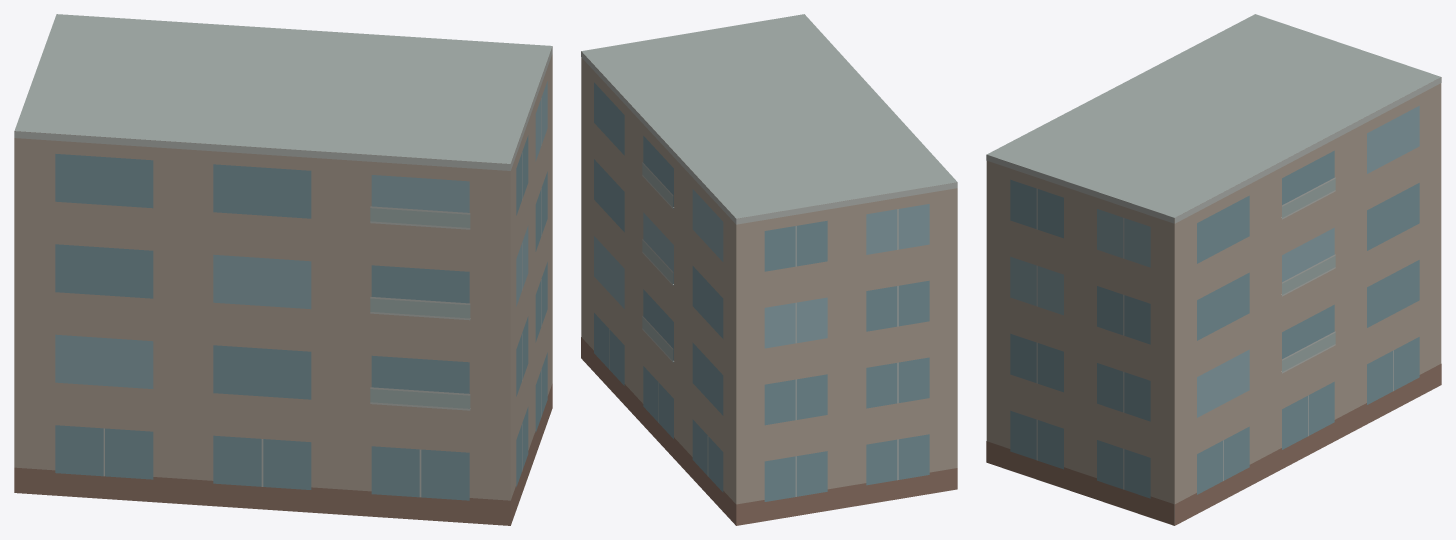
File: survey-upis-32760650.glb
3 renders of one model, left to right at view 1: azimuth 30°, elevation 25°; view 2: azimuth 150°, elevation 25°; view 3: azimuth 270°, elevation 25°, orthographic. The views are drawn at different scales.
Visible parts, largest first — view 1: survey-upis-32760650.tmp; view 2: survey-upis-32760650.tmp; view 3: survey-upis-32760650.tmp.
Boxes of the visible parts, box(x1,y1,x2,y2) form: survey-upis-32760650.tmp: box(14, 14, 552, 525); survey-upis-32760650.tmp: box(581, 14, 957, 525); survey-upis-32760650.tmp: box(986, 14, 1441, 525).
Bounding box in the file's own units: 17.9 × 12.6 × 16.88.
